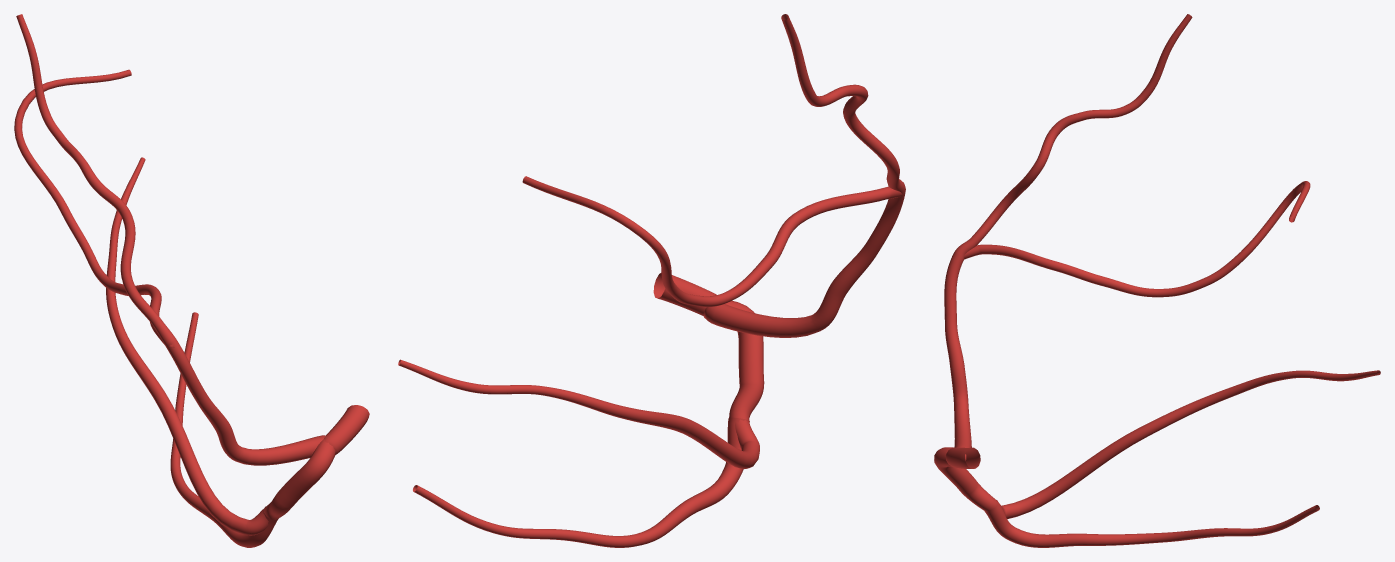
3 views of the same model, side by side, from view 1: azimuth 30°, elevation 25°; view 2: azimuth 150°, elevation 25°; view 3: azimuth 270°, elevation 25° (orthographic). The views are drawn at different scales.
Parts seen in each view (by area): view 1: 右侧颞前支; view 2: 右侧颞前支; view 3: 右侧颞前支.
Part boxes in pixels (x1,y1,x2,y2): 右侧颞前支: (14,14,369,547); 右侧颞前支: (398,14,905,547); 右侧颞前支: (934,14,1380,547).
Size of the model in its own units: 0.0324 by 0.0624 by 0.0538.
